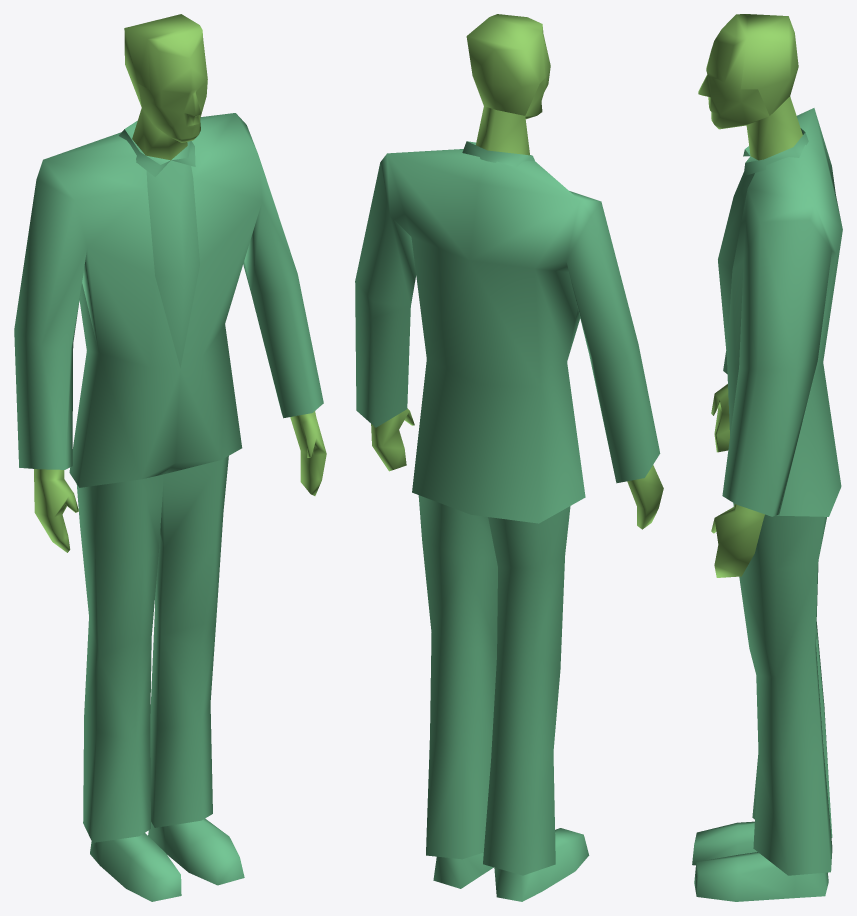
The model's file is gman.obj.
3 views of the same model, side by side, from view 1: azimuth 30°, elevation 25°; view 2: azimuth 150°, elevation 25°; view 3: azimuth 270°, elevation 25° (orthographic).
Parts seen in each view (by area): view 1: gman_reference; view 2: gman_reference; view 3: gman_reference.
Part boxes in pixels (x1,y1,x2,y2): gman_reference: (14,14,326,901); gman_reference: (355,14,663,901); gman_reference: (692,14,842,901).
Size of the model in its own units: 26.07 by 72.5 by 11.66.
